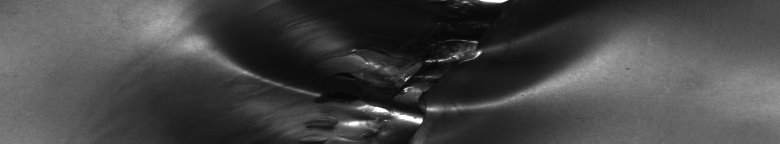ke: (196, 4, 573, 136)
